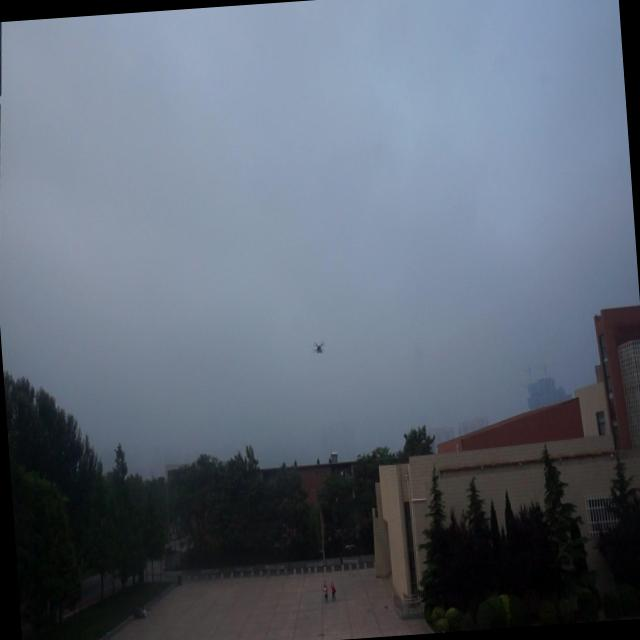drone: (310, 334, 328, 360)
